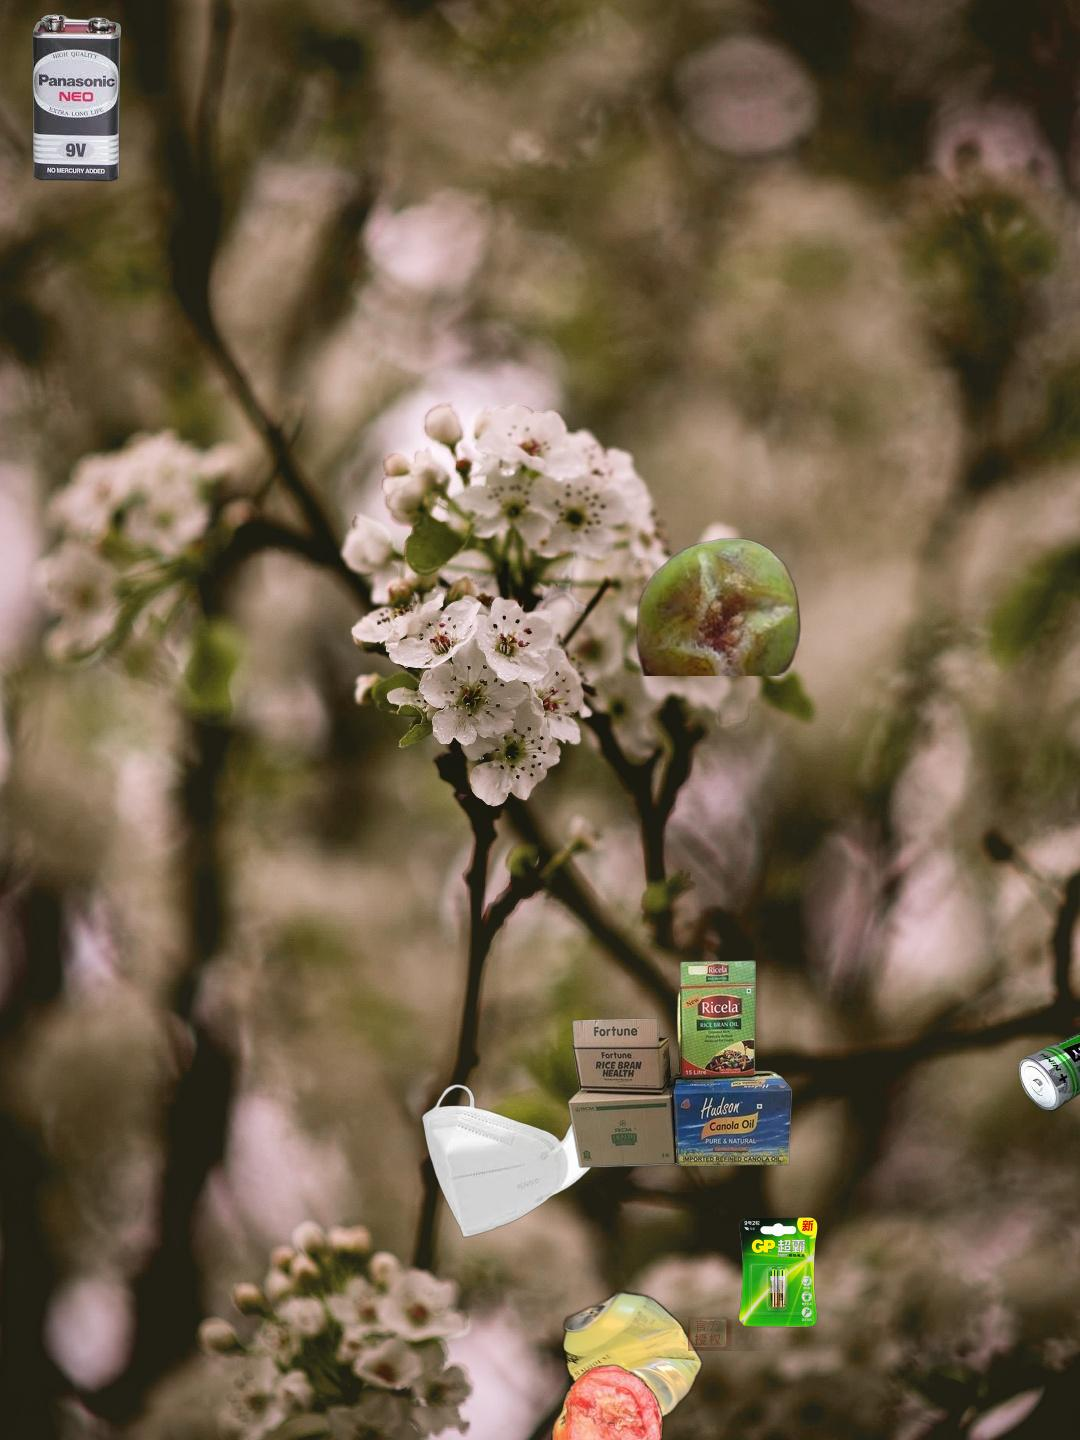battery: (687, 1191, 847, 1352), (29, 11, 124, 184), (1016, 986, 1080, 1155)
biological: (634, 536, 803, 676), (549, 1362, 666, 1440)
metal-cans: (558, 1287, 706, 1428)
trash: (419, 1081, 622, 1240)
trashbox-cardboard: (565, 957, 795, 1170)
